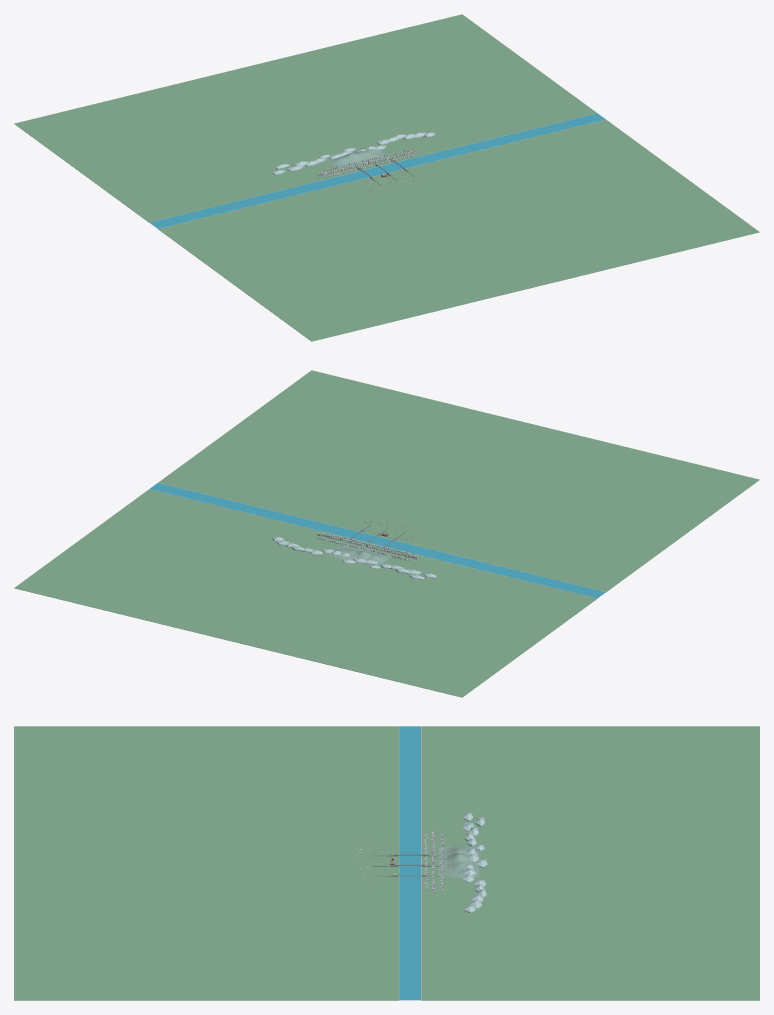
Rendered from lounge.glb.
3 views of the same model, one above another, from view 1: azimuth 30°, elevation 25°; view 2: azimuth 150°, elevation 25°; view 3: azimuth 270°, elevation 25° (orthographic). The views are drawn at different scales.
Parts seen in each view (by area): view 1: Scenery_NearLand, Scenery_FarLand, Scenery_Water, Scenery_Namsan_Hill; view 2: Scenery_NearLand, Scenery_FarLand, Scenery_Water, Scenery_Namsan_Hill; view 3: Scenery_NearLand, Scenery_FarLand, Scenery_Water, Scenery_Namsan_Hill.
Boxes of the visible parts, <box> form: Scenery_NearLand: <box>158,119,759,341</box>; Scenery_FarLand: <box>14,14,596,222</box>; Scenery_Water: <box>149,113,605,228</box>; Scenery_Namsan_Hill: <box>324,145,389,169</box>; Scenery_NearLand: <box>158,370,759,591</box>; Scenery_FarLand: <box>14,489,596,697</box>; Scenery_Water: <box>149,483,605,598</box>; Scenery_Namsan_Hill: <box>327,543,391,565</box>; Scenery_NearLand: <box>14,726,399,1000</box>; Scenery_FarLand: <box>421,726,759,1000</box>; Scenery_Water: <box>399,726,420,1000</box>; Scenery_Namsan_Hill: <box>438,846,478,877</box>.
Size of the model in its own units: 2400 by 58.34 by 2760.
